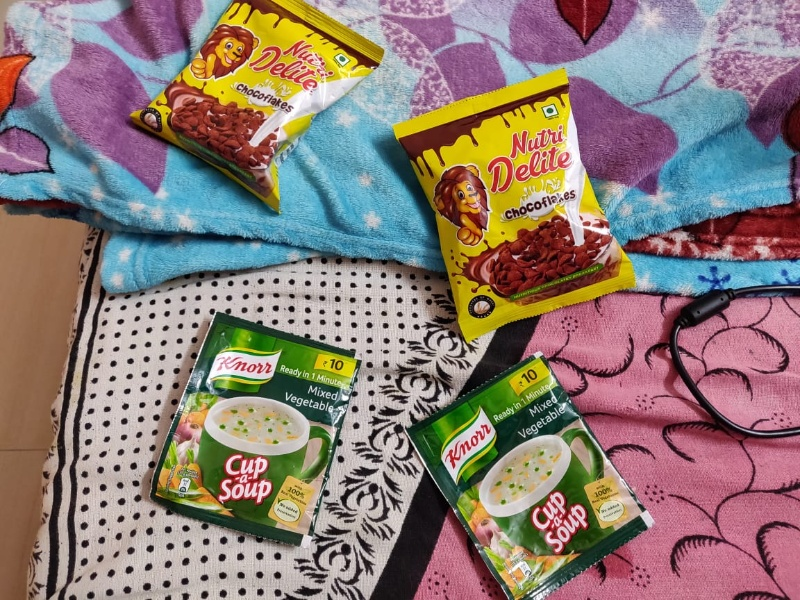Knorr_Cup_Soup: (402, 366, 655, 592), (155, 310, 357, 535)
nutriDelite: (391, 73, 645, 326), (136, 3, 377, 197)
